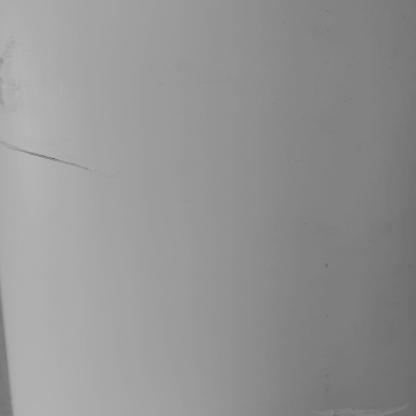sunshang: (1, 137, 100, 171)
